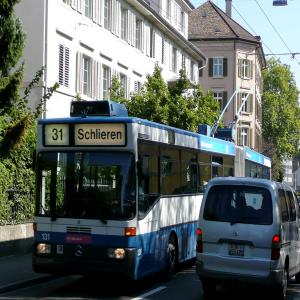Vehicle-registration-plate: (229, 246, 245, 258)
